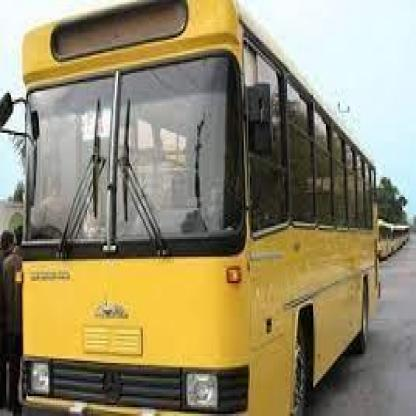Bus: (0, 0, 387, 416), (379, 217, 397, 261), (394, 223, 406, 242)
